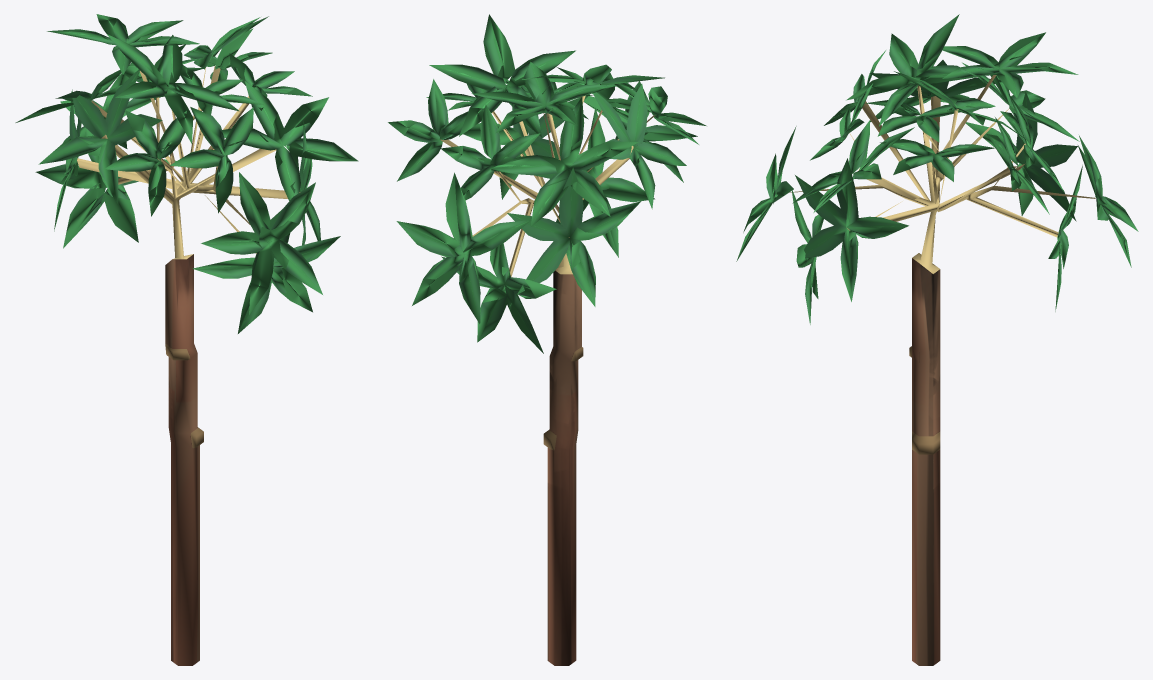
The model's file is cassava-blooming.glb.
3 renders of one model, left to right at view 1: azimuth 30°, elevation 25°; view 2: azimuth 150°, elevation 25°; view 3: azimuth 270°, elevation 25°, orthographic. The views are drawn at different scales.
Parts seen in each view (by area): view 1: Cylinder.001; view 2: Cylinder.001; view 3: Cylinder.001.
Part boxes in pixels (x1,y1,x2,y2): Cylinder.001: (15,14,358,665); Cylinder.001: (388,14,706,665); Cylinder.001: (736,14,1138,665).
Bounding box in the file's own units: 3 × 7.18 × 4.24.
Materials: 4 (2 with a texture image).
